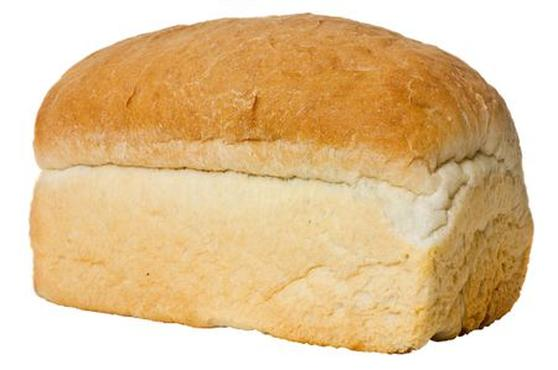white_bread: (25, 14, 531, 357)
